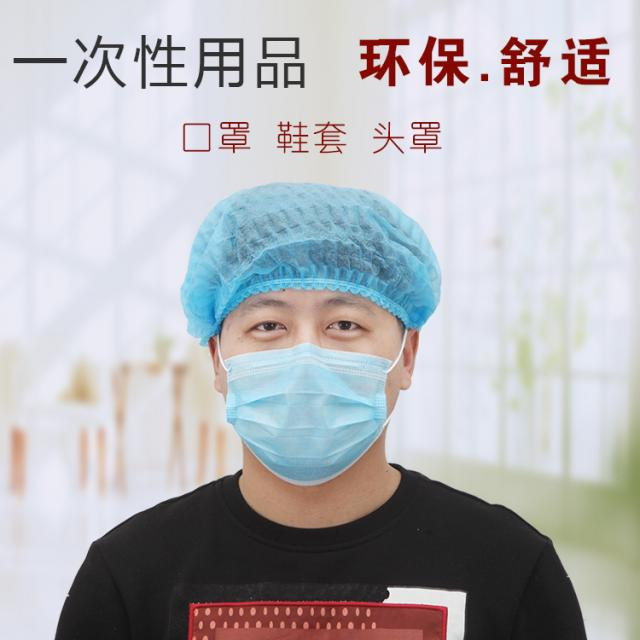mask: (218, 250, 402, 472)
